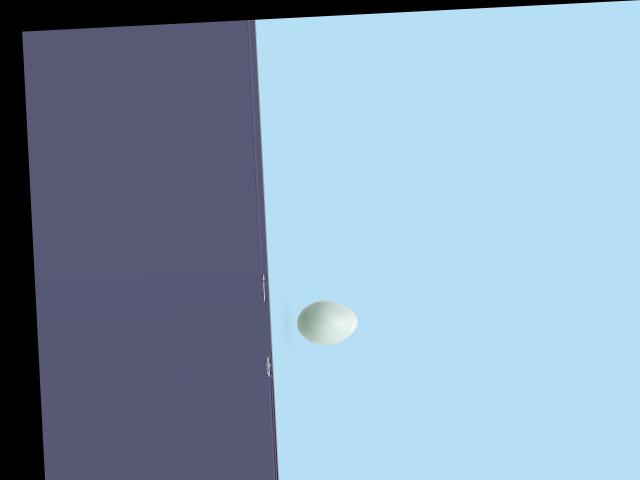egg: (296, 298, 358, 345)
